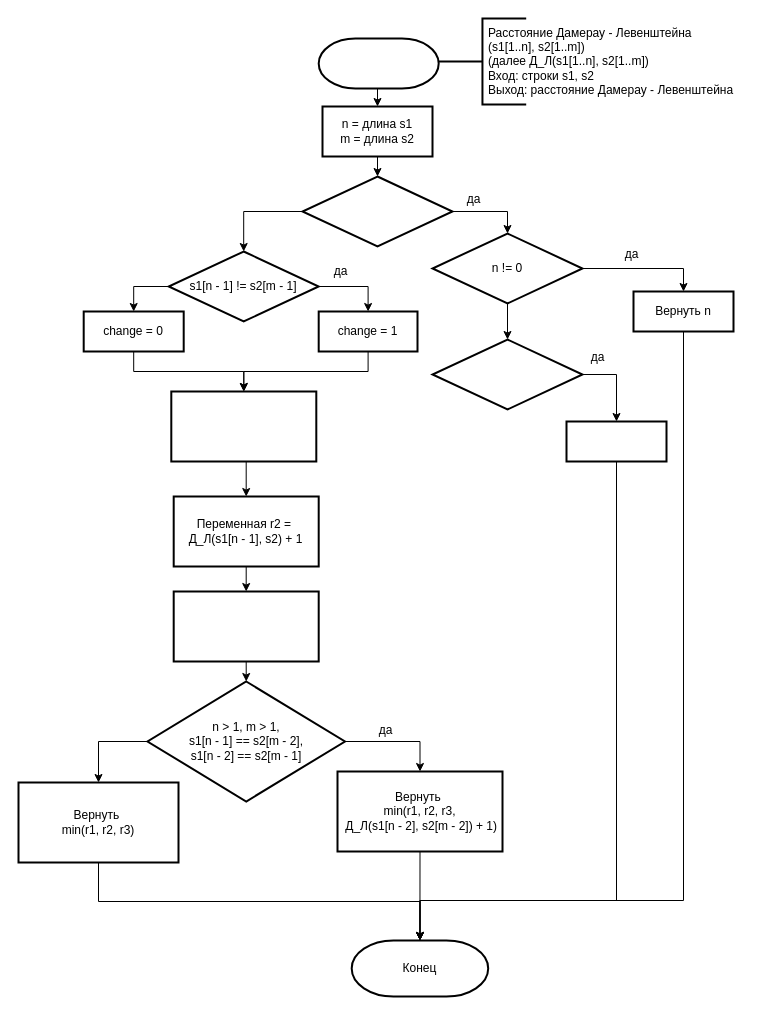
The diagram is 763 pixels wide and 1014 high, and some of its shapes have lost their labels. The shapes that lost their labels are listed below. From the top down, each one's centre as x and y in pixels, then its label:
At pixel 378 63: "Начало".
At pixel 377 211: "n ==0 или m == 0".
At pixel 507 374: "m != 0".
At pixel 243 426: "Переменная r1 = Д_Л(s1, s2[m - 1]) + 1".
At pixel 616 441: "Вернуть m".
At pixel 245 626: "Переменная r3 = Д_Л(s1[n - 1], s2[m - 1]) + change)".
